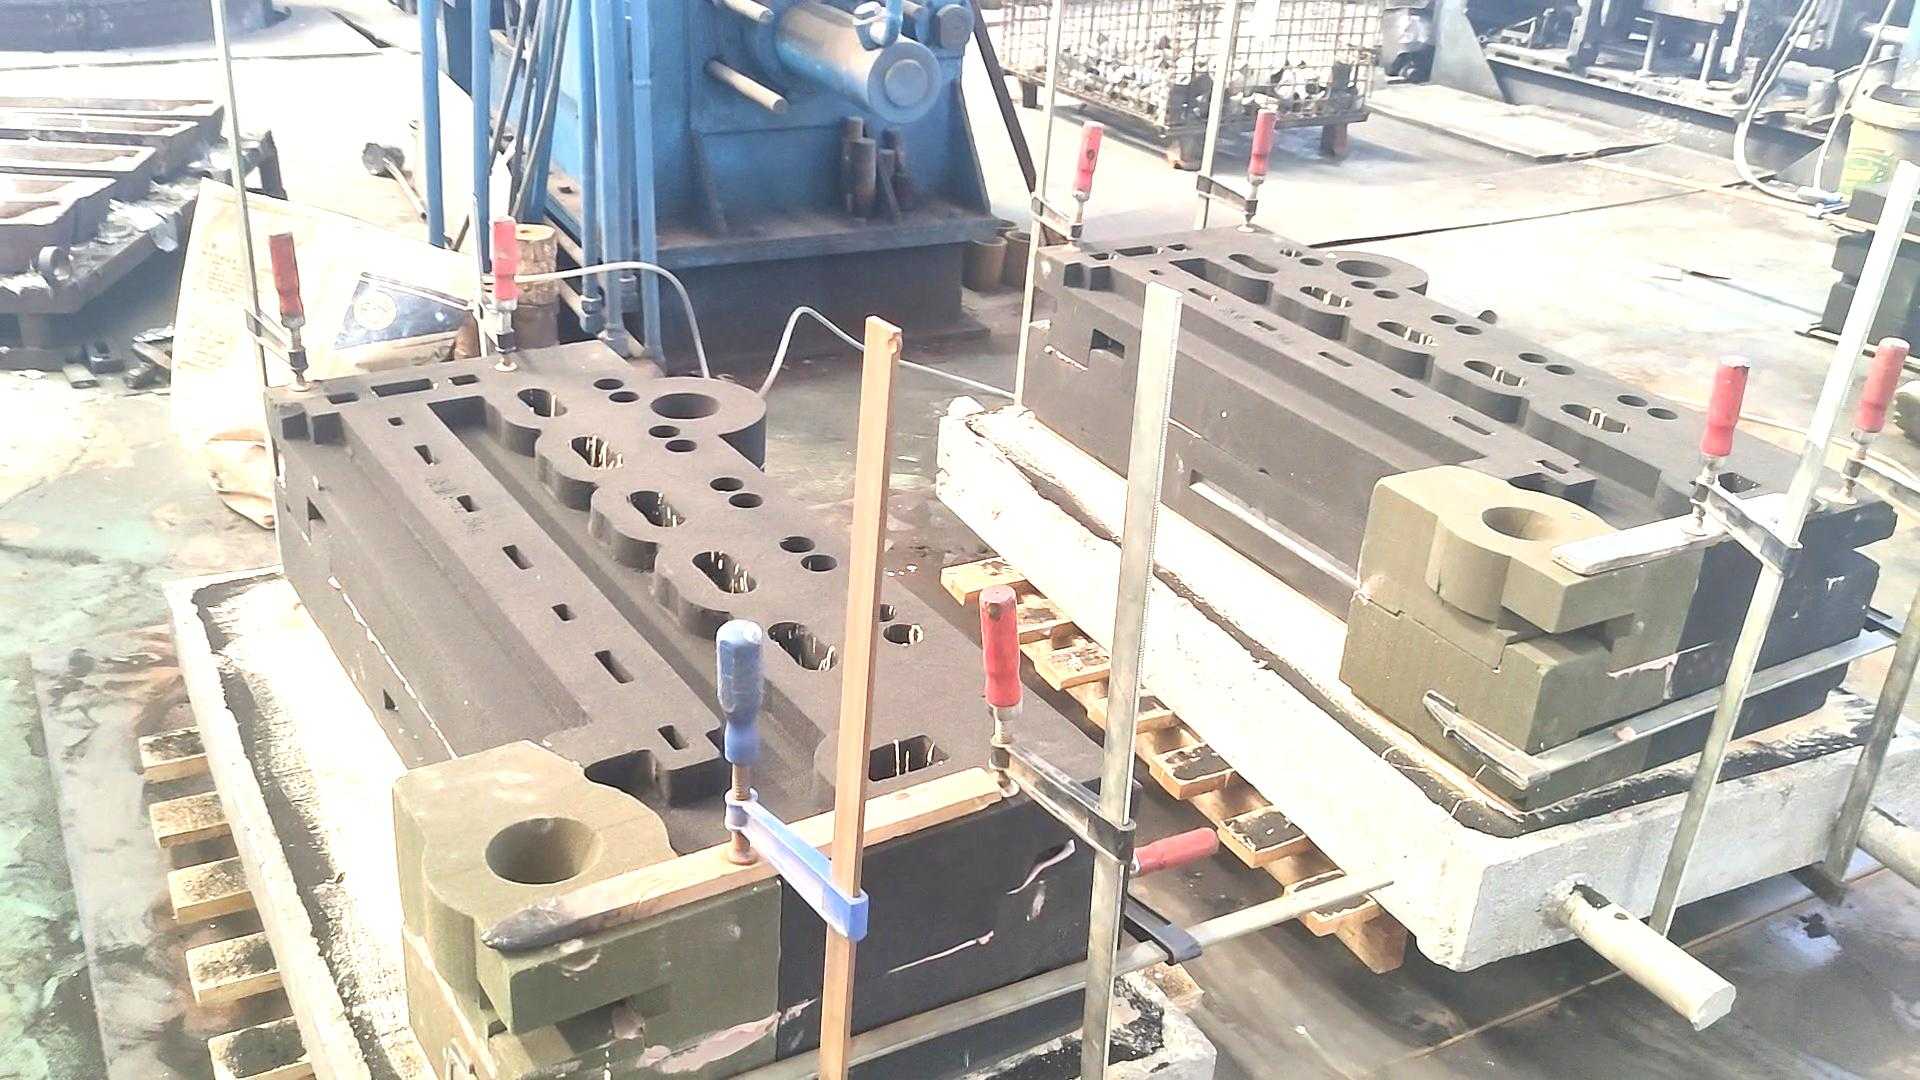pouring hole: (484, 818, 603, 884), (1482, 506, 1561, 542), (650, 392, 723, 419), (1335, 258, 1391, 278), (973, 233, 1004, 245), (1005, 231, 1034, 243), (992, 218, 1015, 227)
